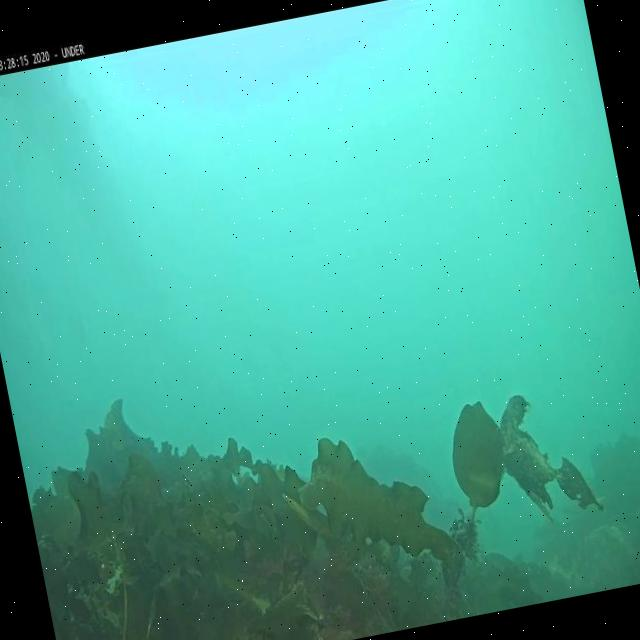fish: (282, 486, 327, 543)
